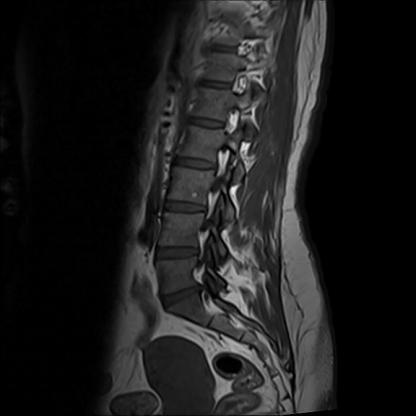Degenerative Disc Diseaserotation: (161, 285, 209, 305)
Disc Herniationrotation: (160, 285, 209, 305)
